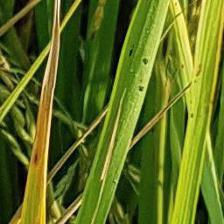2 BacterialBlight: (30, 4, 65, 177)
